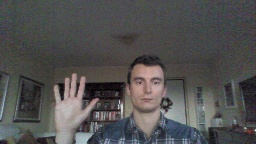Mano_aperta: (52, 72, 99, 134)
